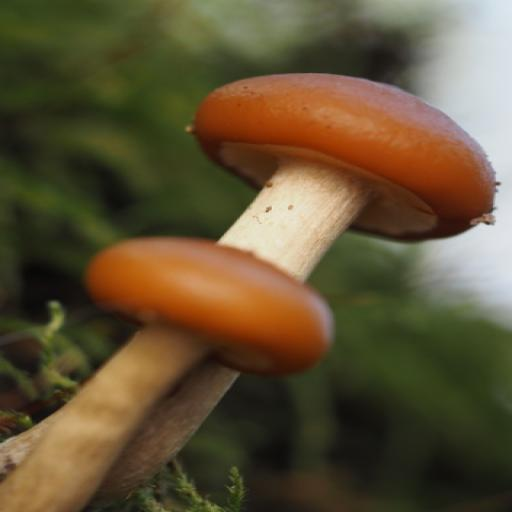mushroom: (91, 40, 501, 428)
